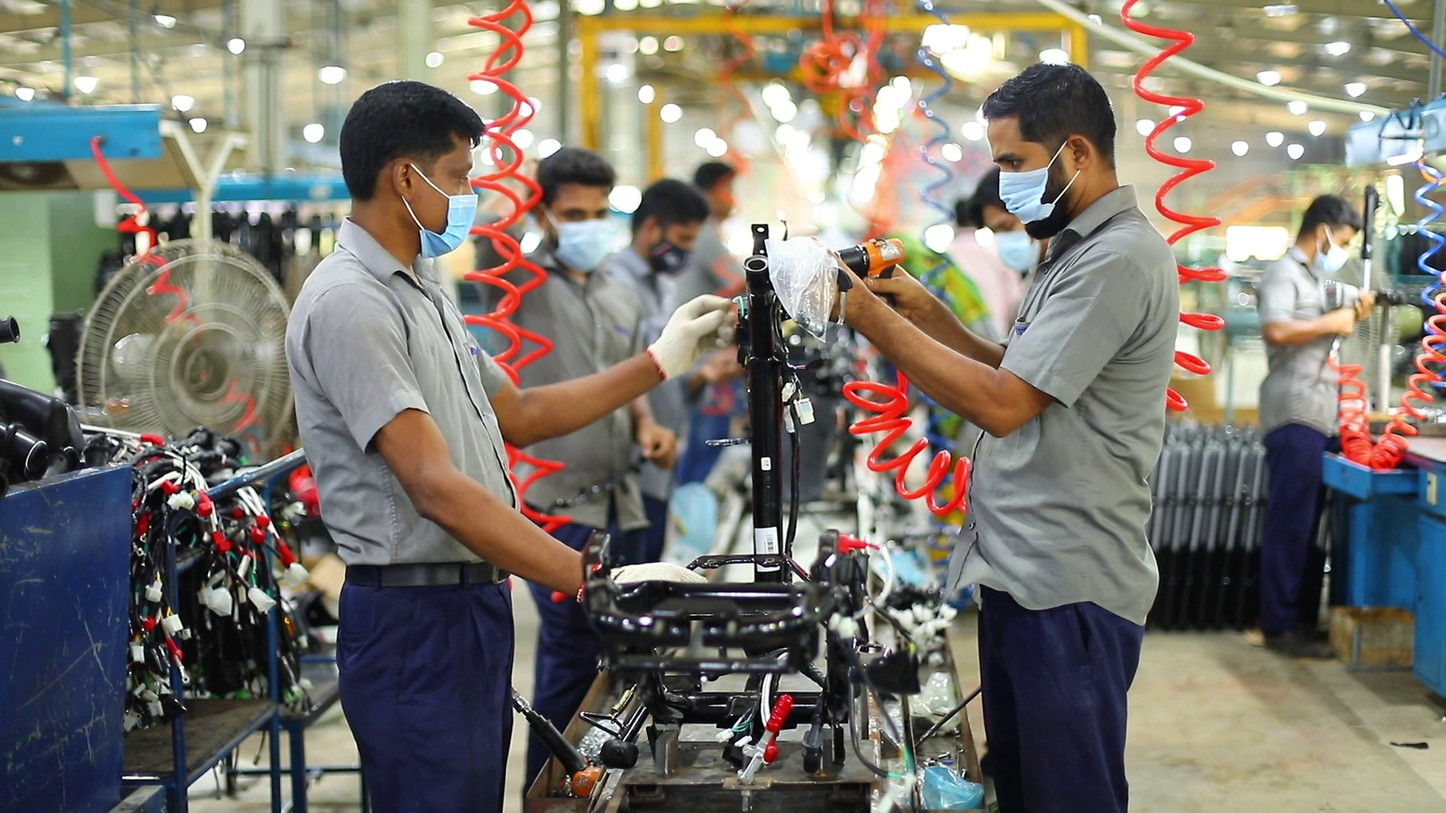mask: (417, 194, 477, 258), (997, 166, 1062, 221), (554, 219, 614, 271), (649, 236, 697, 275), (998, 230, 1039, 273), (1320, 242, 1353, 273)
person: (286, 76, 740, 813), (766, 59, 1179, 813), (477, 142, 679, 805), (1257, 193, 1383, 661), (594, 178, 715, 570), (684, 160, 743, 485), (972, 166, 1054, 340), (939, 196, 1008, 321)
